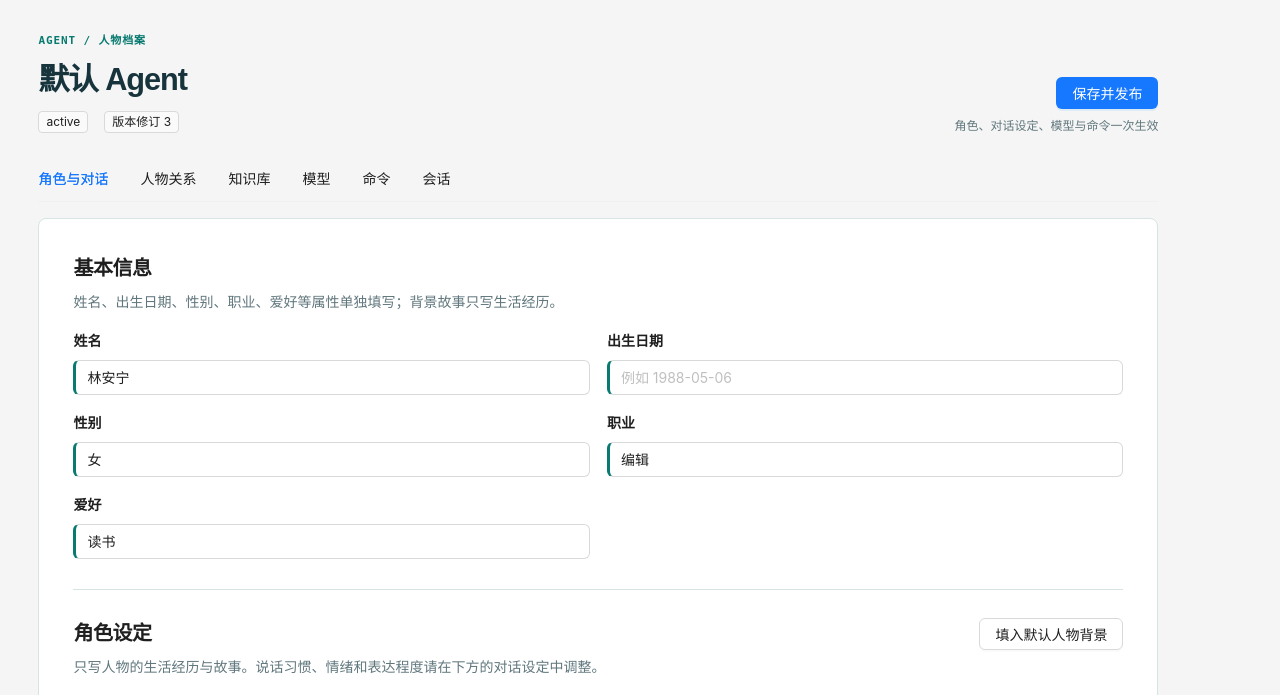
Test case: offers the historical default Agent a narrative background without publishing it automatically
This screenshot has width=1280, height=695.
Click the button "填入默认人物背景" at (1051, 634), box [979,618,1123,650]
(page scrolled)
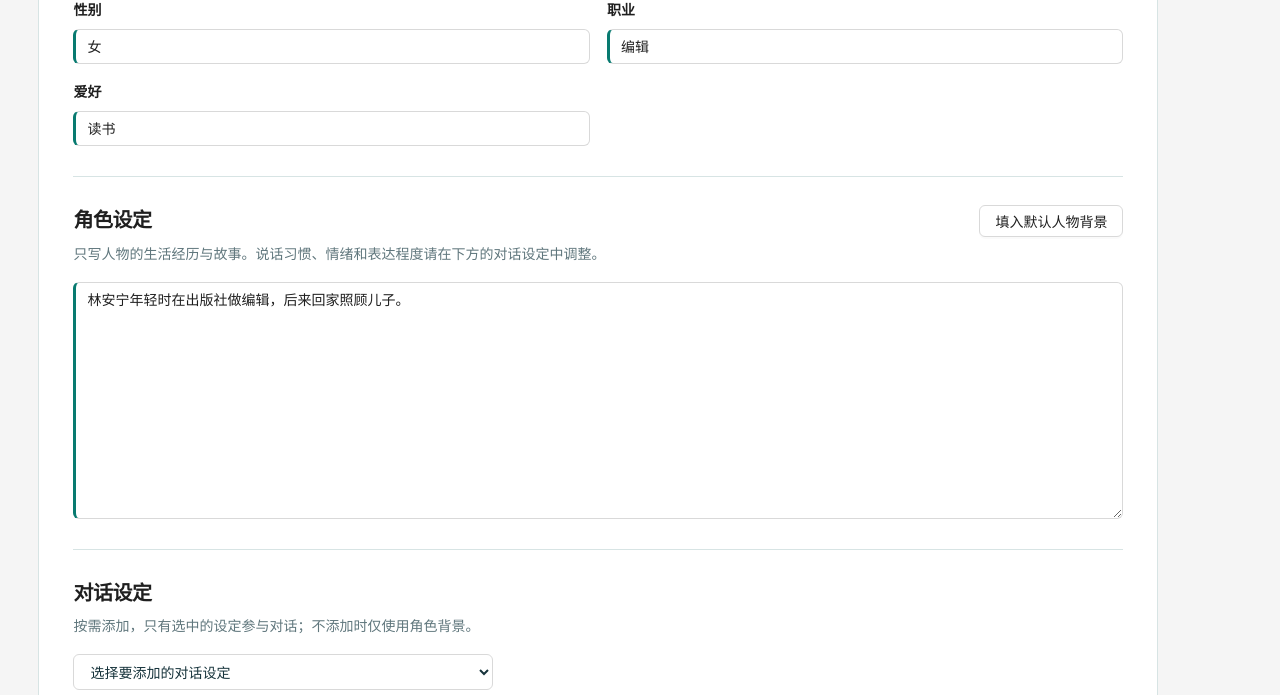
Result: the text box named "角色设定" holds "林安宁年轻时在出版社做编辑，后来回家照顾儿子。" at [73,282,1123,519]
